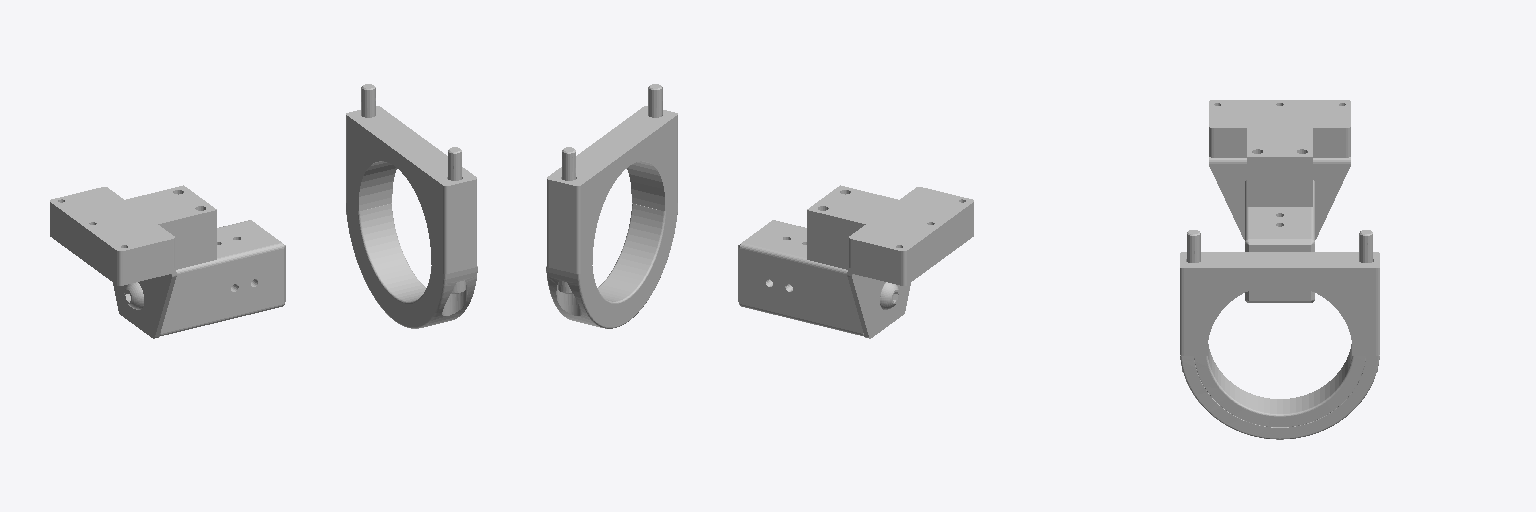
File: processed_right_arm_mount.obj
3 views of the same model, side by side, from view 1: azimuth 30°, elevation 25°; view 2: azimuth 150°, elevation 25°; view 3: azimuth 270°, elevation 25° (orthographic).
Parts seen in each view (by area): view 1: right_arm_mount; view 2: right_arm_mount; view 3: right_arm_mount.
Part boxes in pixels (left/top/right/bottom): right_arm_mount: left=50, top=84, right=477, bottom=338; right_arm_mount: left=546, top=84, right=973, bottom=338; right_arm_mount: left=1180, top=100, right=1379, bottom=439.
Bounding box in the file's own units: 0.227 × 0.1257 × 0.1143.